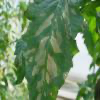Tomato leaf bacterial spot: (22, 2, 86, 99)
